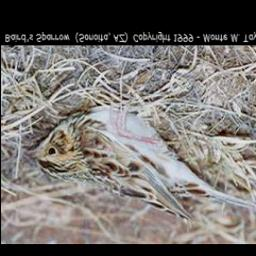Sparrow: (23, 104, 256, 223)
